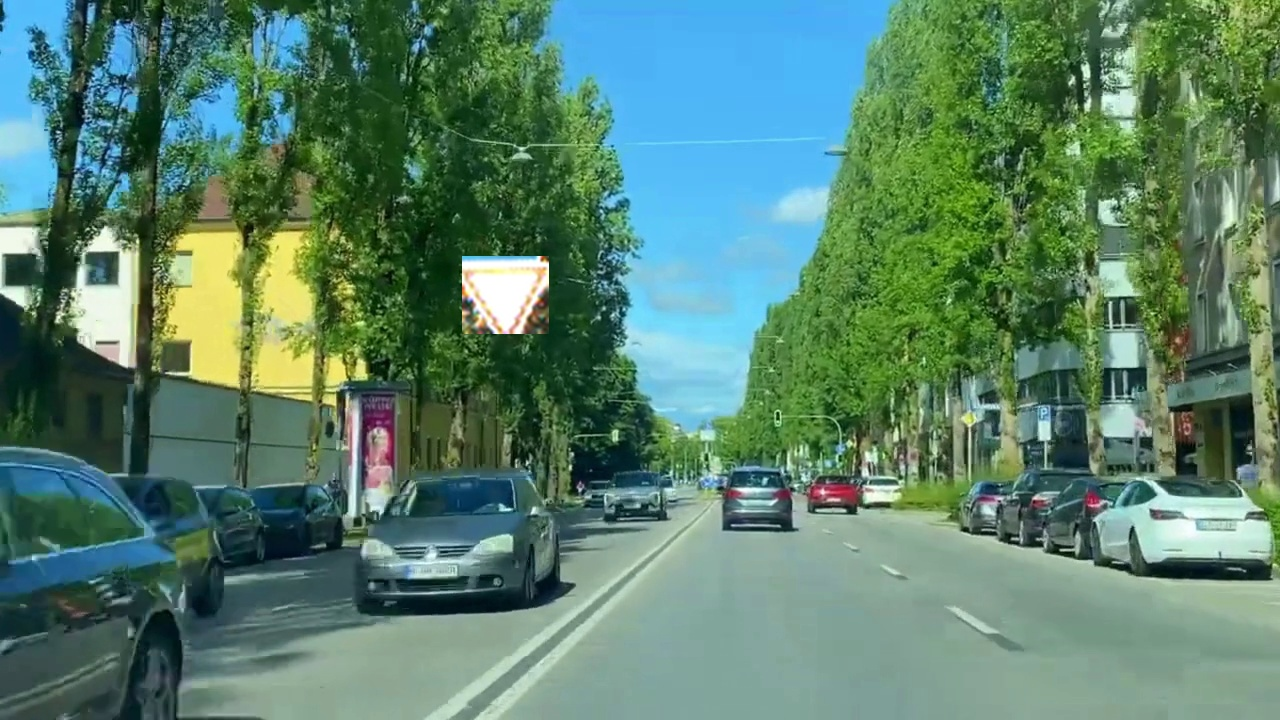Yield: (462, 256, 549, 334)
